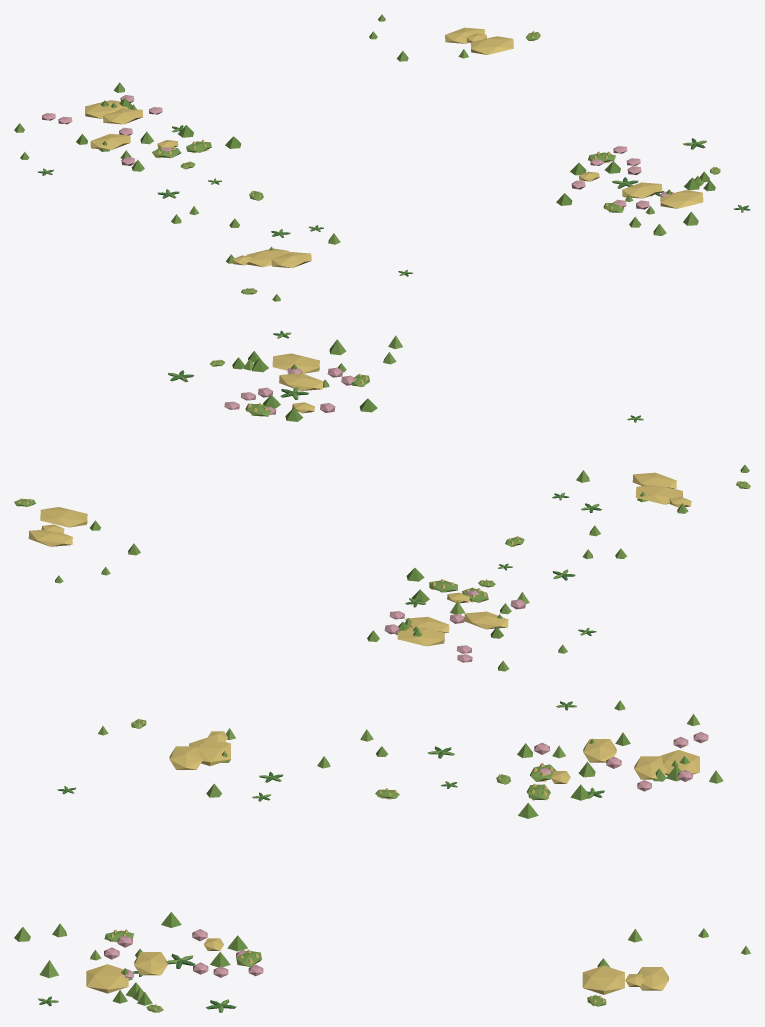
File: deep_clearing_nonsolid_props.fbx
The picture shows the model from 3 angles, top to bottom: view 1: azimuth 30°, elevation 25°; view 2: azimuth 150°, elevation 25°; view 3: azimuth 270°, elevation 25°; orthographic projection. The views are drawn at different scales.
Parts seen in each view (by area): view 1: chunk_deep_clearing__PropsNonSolid; view 2: chunk_deep_clearing__PropsNonSolid; view 3: chunk_deep_clearing__PropsNonSolid.
Boxes of the visible parts, <box> form: chunk_deep_clearing__PropsNonSolid: <box>14,14,750,301</box>; chunk_deep_clearing__PropsNonSolid: <box>14,330,750,671</box>; chunk_deep_clearing__PropsNonSolid: <box>14,700,750,1012</box>.
Size of the model in its own units: 191 by 6.87 by 187.
